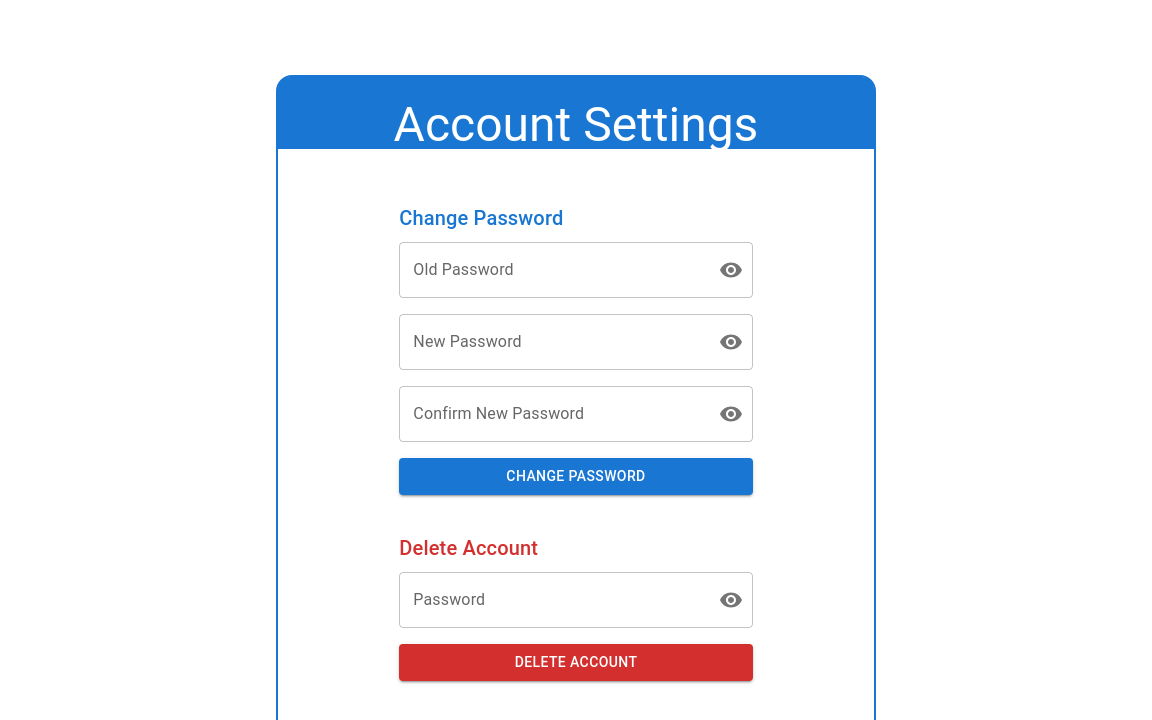
AccountMasterPane › When loaded with the correct app data › when the Change Password button is clicked › sends the ERR_MSG.INPUT_IS_BLANK message when the old password field is blank
Type "oldPassword" into the password field labelled "Old Password".
click(551, 270); type("oldPassword")  # box left=399, top=242, right=703, bottom=298
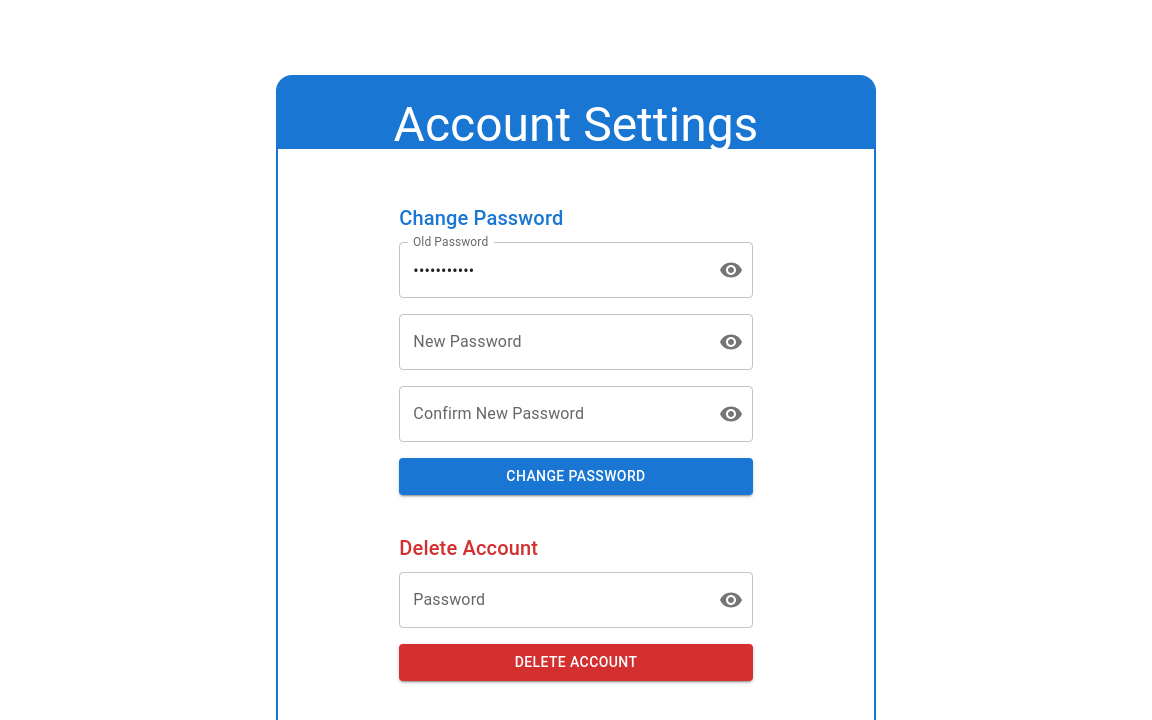
Type "newPassword" into the password field labelled "New Password".
click(551, 342); type("newPassword")  # box left=399, top=314, right=703, bottom=370
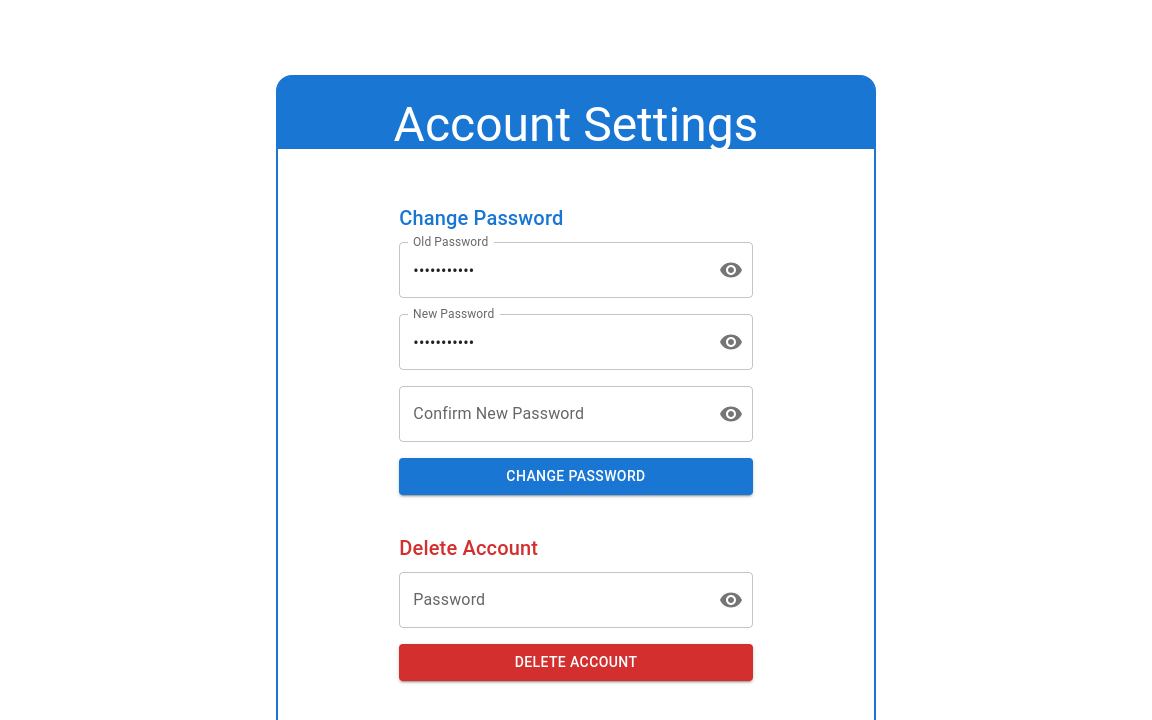
Type "newPassword" into the password field labelled "Confirm New Password".
click(551, 414); type("newPassword")  # box left=399, top=386, right=703, bottom=442
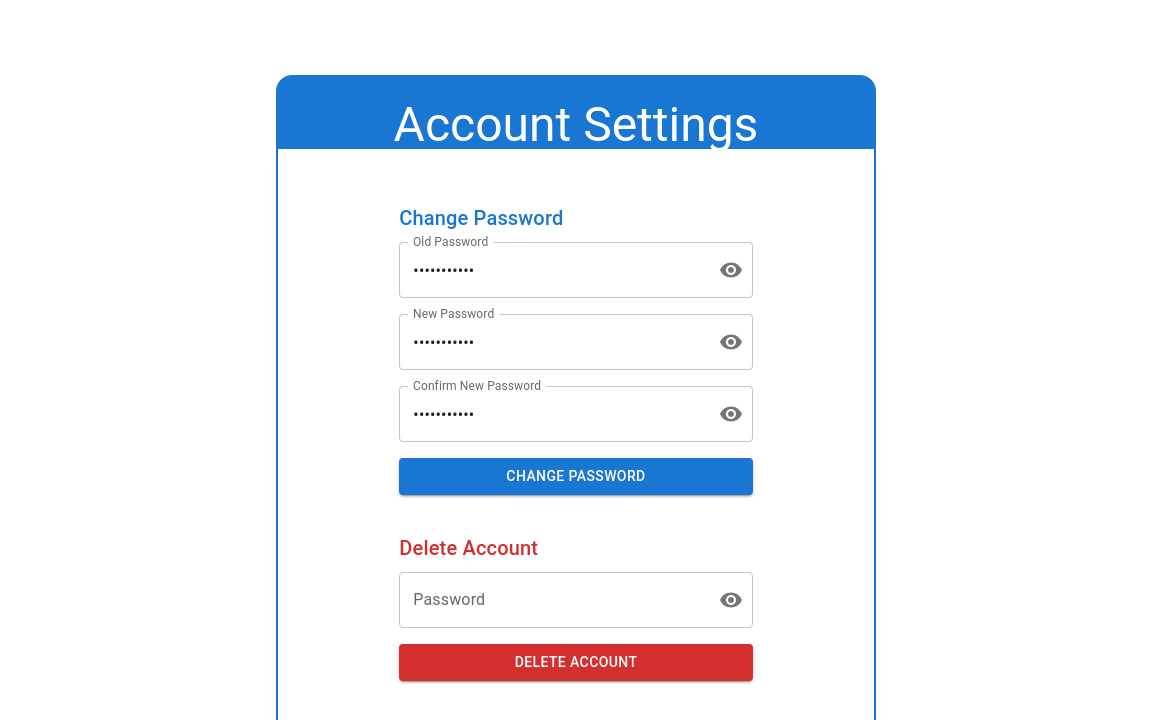
Clear the password field labelled "Old Password" at (551,270), box left=399, top=242, right=703, bottom=298
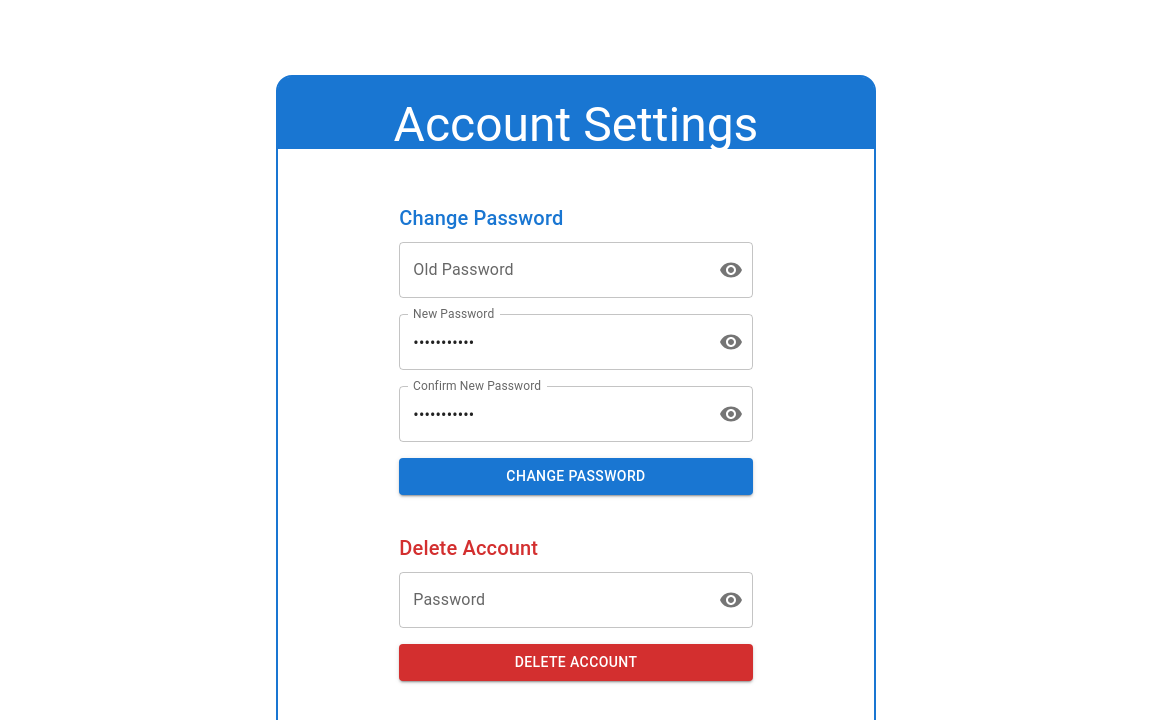
Click the button "Change Password".
click(576, 476)  # box left=399, top=458, right=753, bottom=495
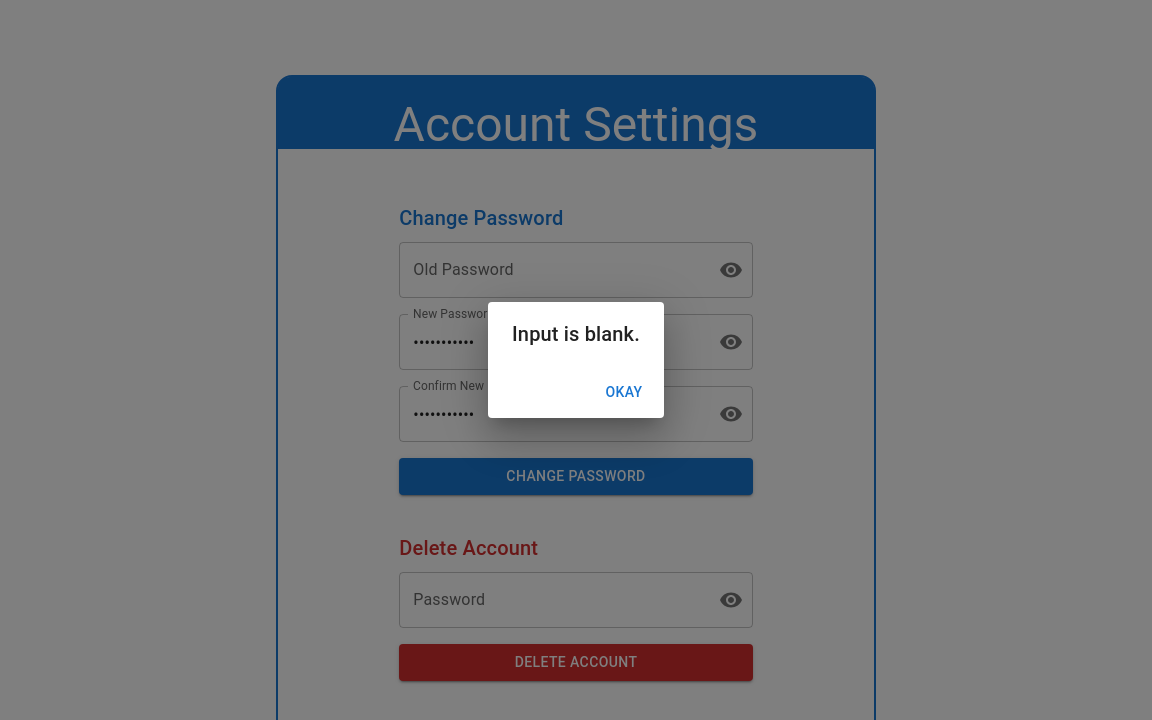
Expected: the heading "Input is blank." is shown, left=512, top=322, right=640, bottom=346
